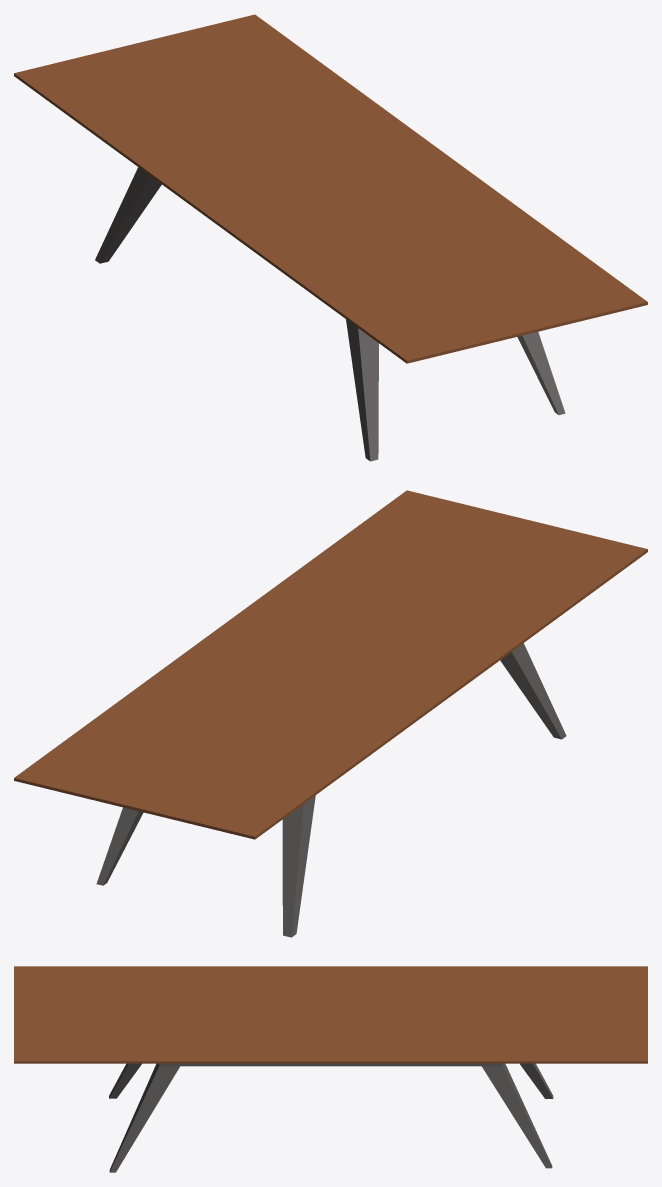
Rendered from Table.fbx.
The picture shows the model from 3 angles, top to bottom: view 1: azimuth 30°, elevation 25°; view 2: azimuth 150°, elevation 25°; view 3: azimuth 270°, elevation 25°; orthographic projection. The views are drawn at different scales.
Parts seen in each view (by area): view 1: Table; view 2: Table; view 3: Table.
Boxes of the visible parts, x1,y1,x2,y2 form: Table: (14,14,647,461); Table: (14,490,647,937); Table: (14,966,647,1172).
Size of the model in its own units: 298 by 176 by 842.
